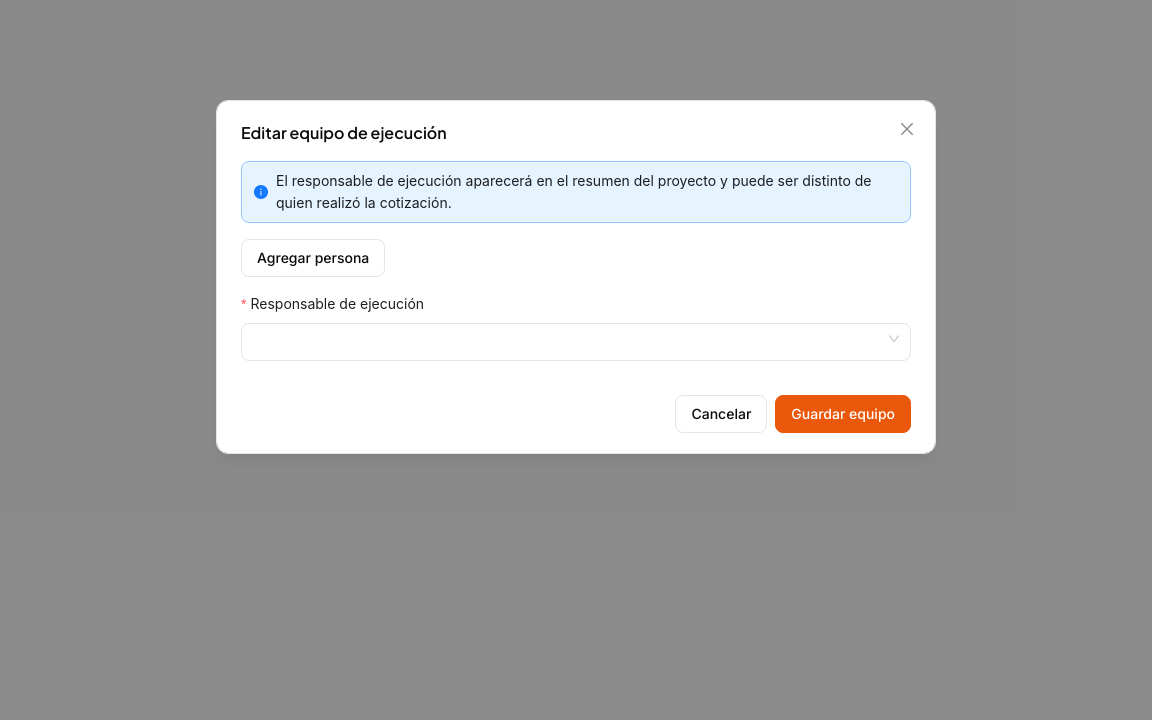
Test: ProjectTeamEditor › impide guardar sin integrantes ni responsable
Step 1. Click the button "Guardar equipo" → click(843, 414), box x1=775 y1=395 x2=911 y2=433
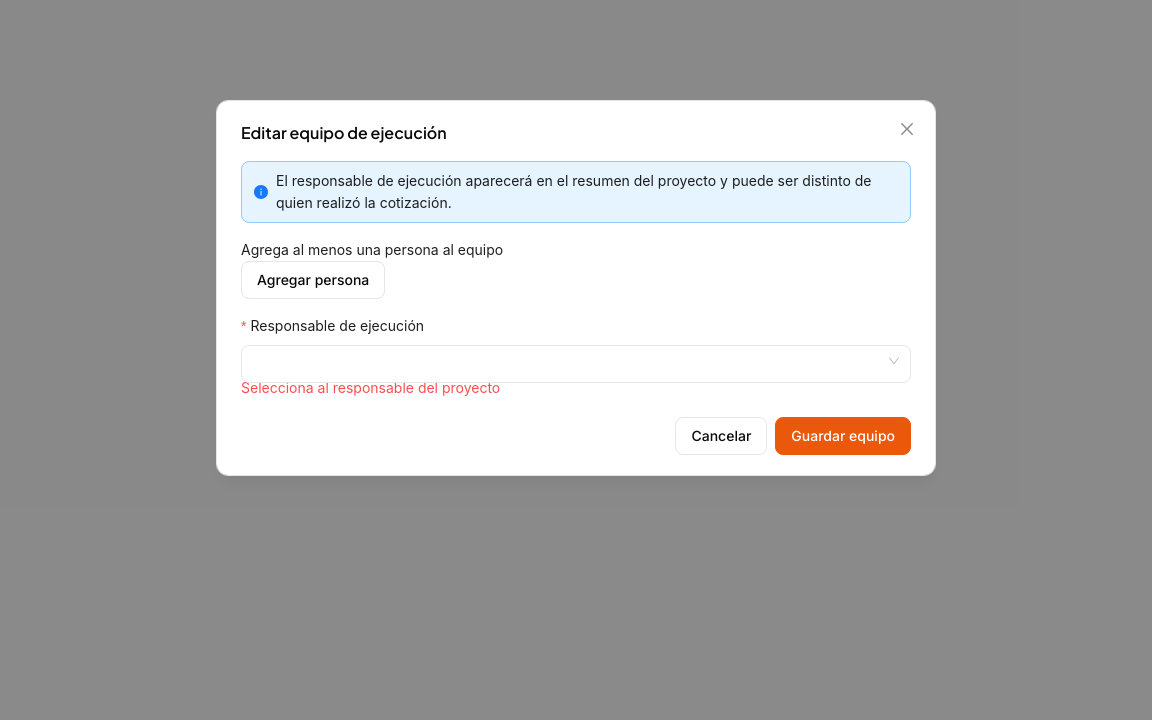
Expected: the text "Agrega al menos una persona al equipo" is shown, x1=241 y1=241 x2=503 y2=258
